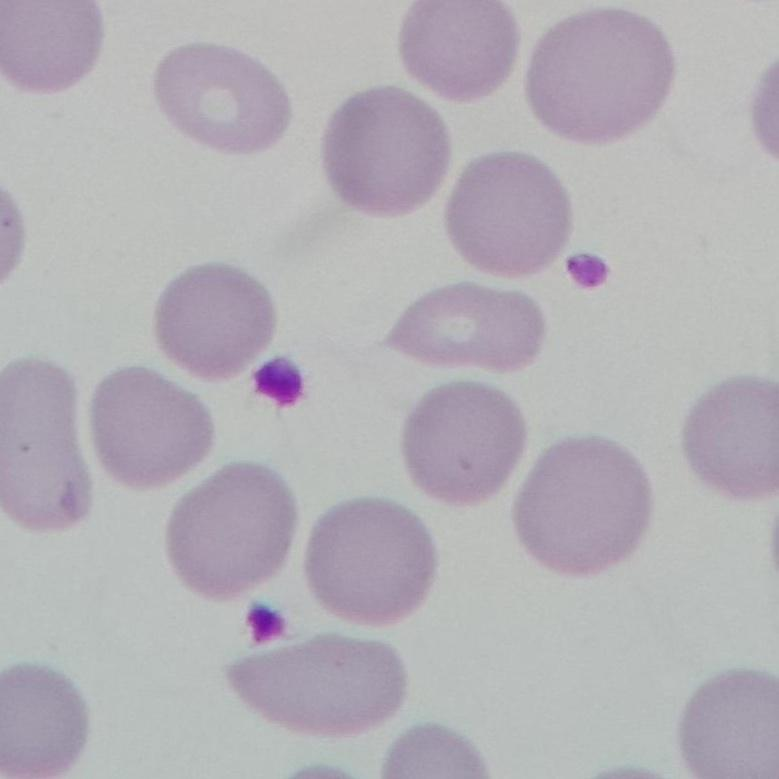Uninfected: (513, 437, 651, 577), (527, 9, 673, 141), (226, 633, 404, 737), (302, 497, 436, 624), (172, 467, 300, 598), (447, 152, 574, 277), (401, 381, 527, 506), (1, 357, 92, 530), (323, 89, 449, 213), (154, 45, 292, 156), (90, 367, 211, 491), (151, 265, 278, 382), (384, 282, 544, 372), (399, 0, 519, 103), (682, 378, 776, 500), (0, 665, 87, 777), (681, 671, 772, 777), (1, 0, 102, 92)
